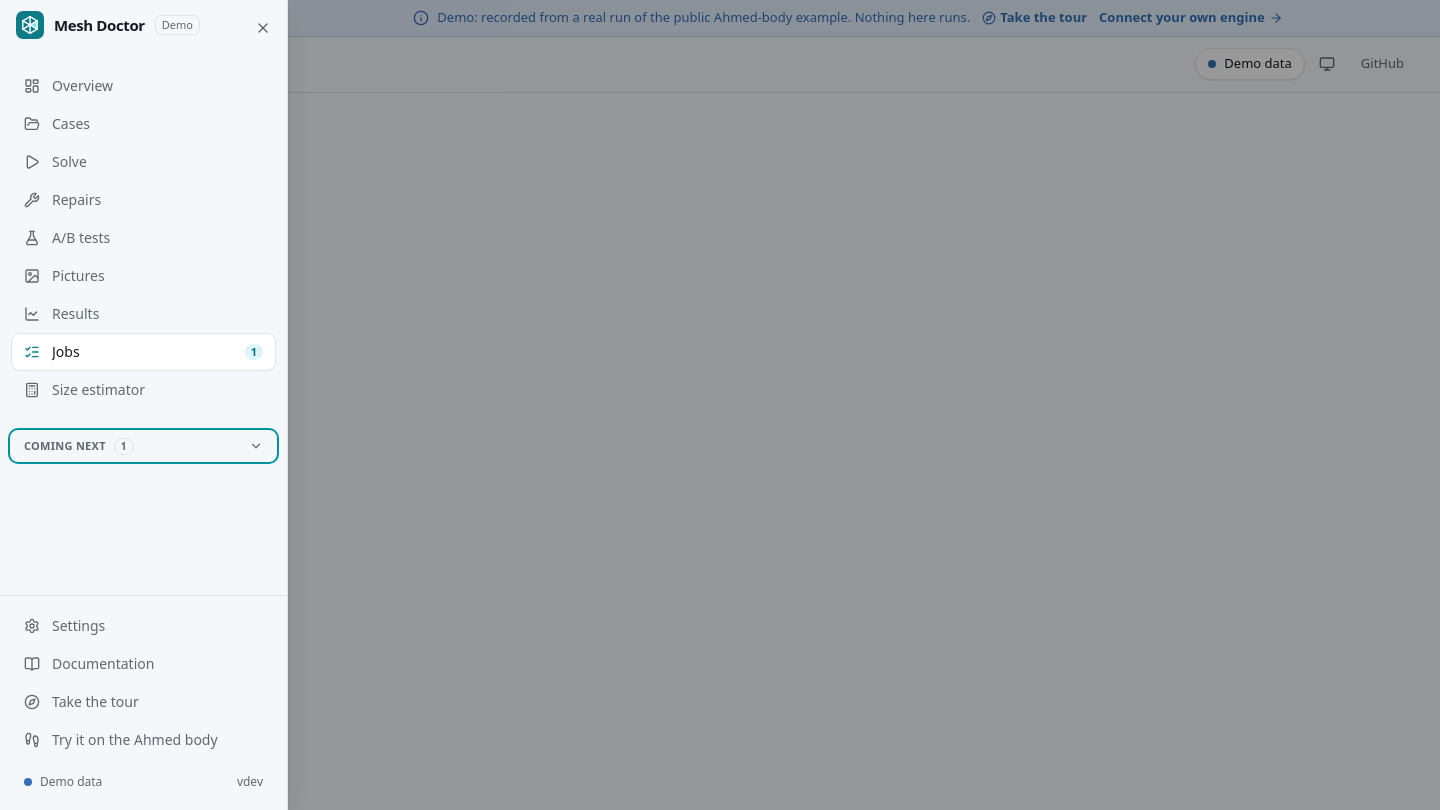
it: the sidebar's Coming next list › opens in the phone's menu and the wide screen's sidebar alike
The image size is (1440, 810).
Earlier steps of the test are not shown.
Click the button named "Coming next 1 screen".
click(65, 445)  # box [12,432,275,460]
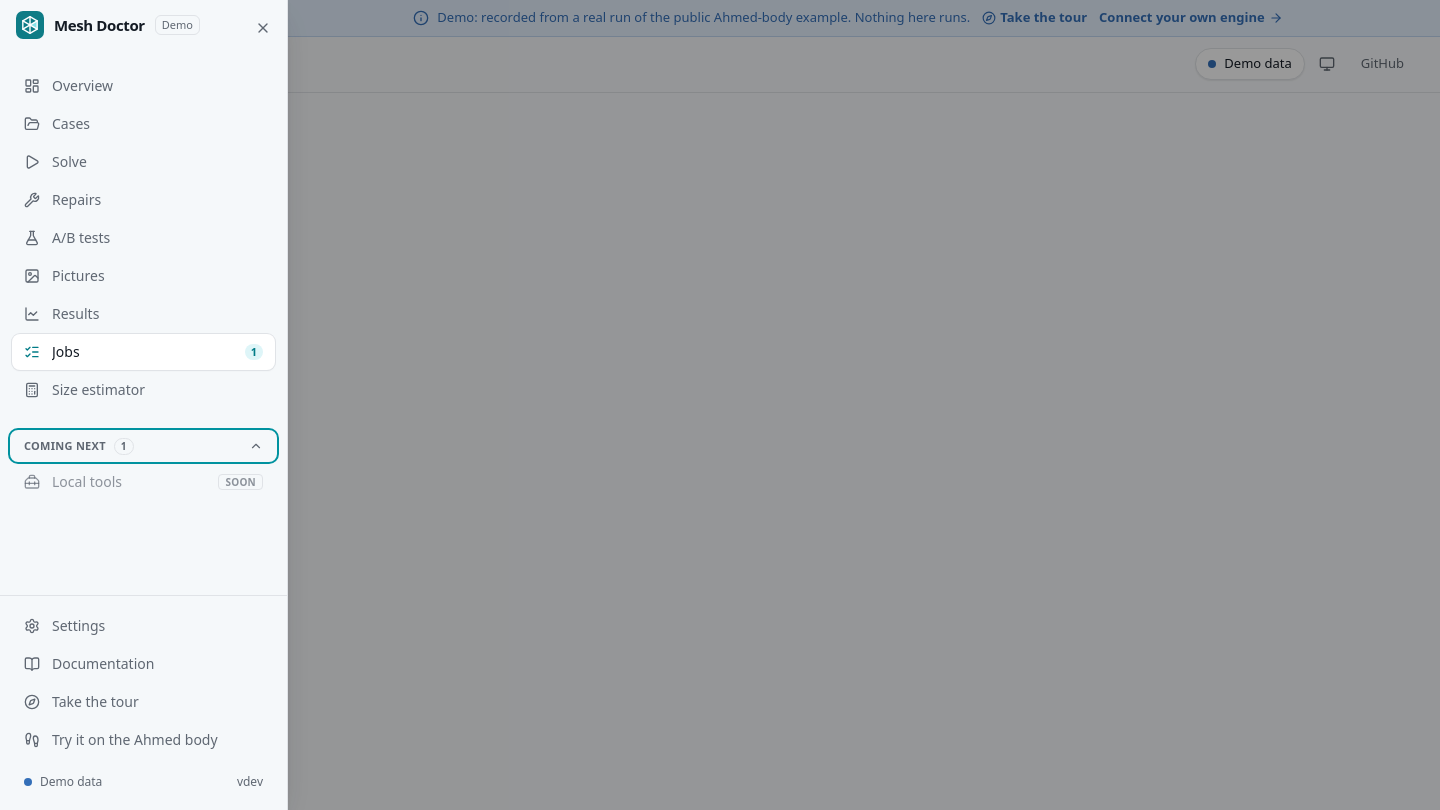
Expected: the button named "Coming next 1 screen" is expanded, [12,432,275,460]
Press Escape
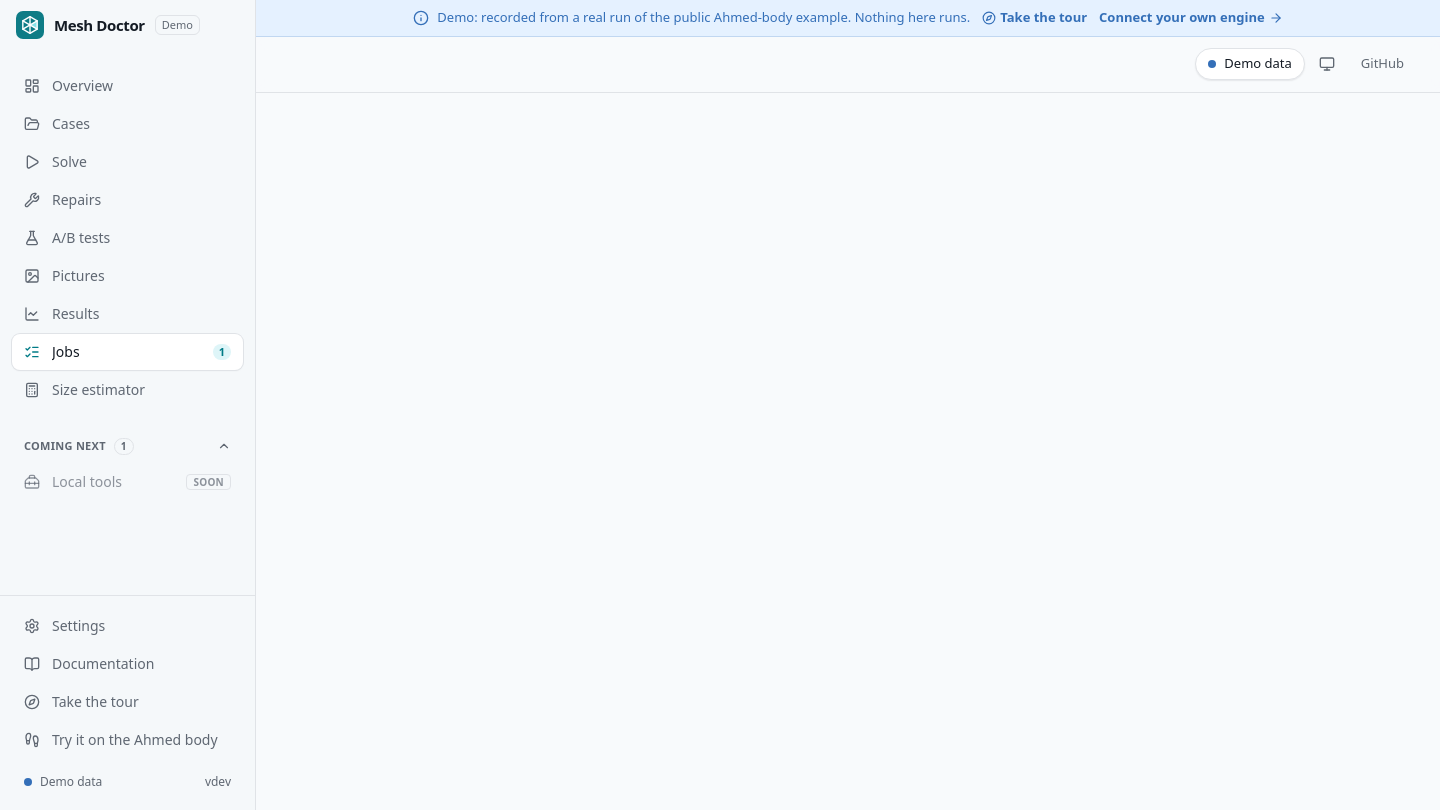
Expected: the dialog is gone
